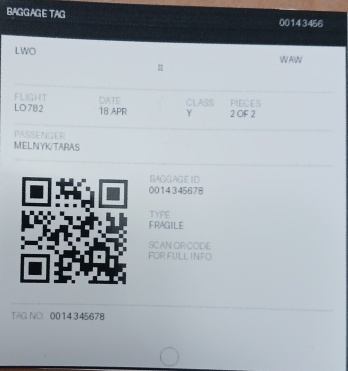LPN_bottom: (44, 305, 108, 326)
LPN_right: (145, 183, 206, 198)
